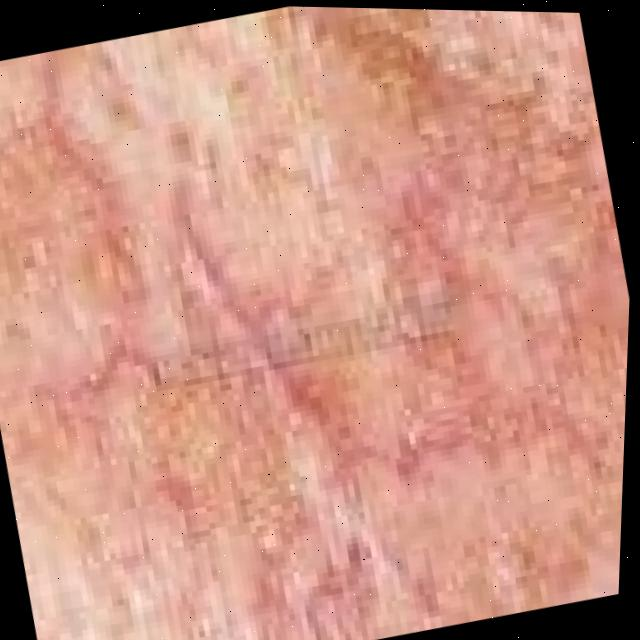Melasma: (0, 0, 640, 630)
